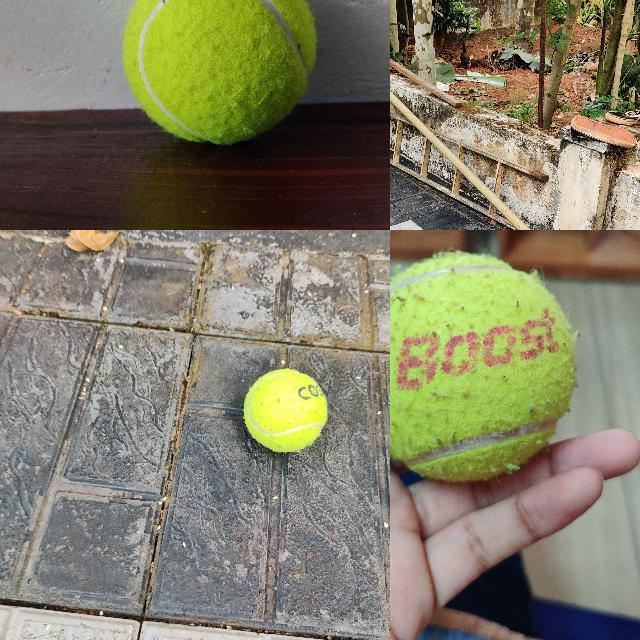tennis-ball: (390, 251, 575, 481), (121, 0, 319, 147), (243, 367, 328, 453)
